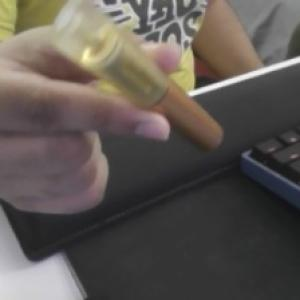Golden-E-Ciggirate: (56, 8, 226, 154)
